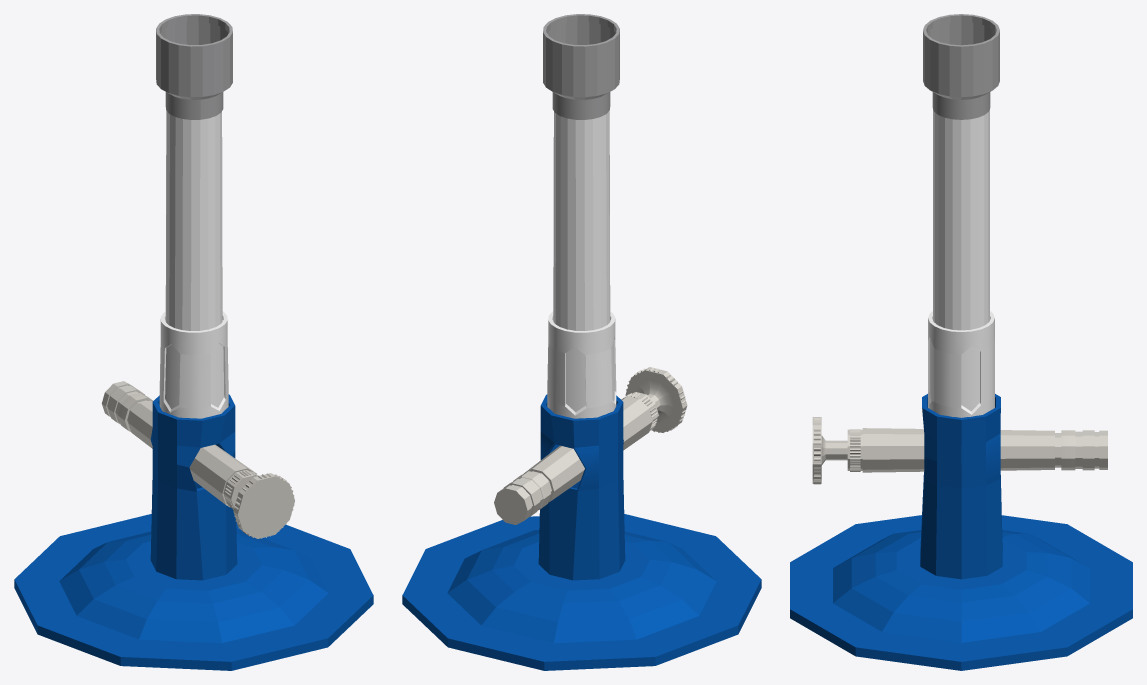
Rendered from Bunsen_Burner1.fbx.
3 renders of one model, left to right at view 1: azimuth 30°, elevation 25°; view 2: azimuth 150°, elevation 25°; view 3: azimuth 270°, elevation 25°, orthographic.
Visible parts, largest first — view 1: pCylinder12, pCylinder8, pCylinder7, pCylinder9; view 2: pCylinder12, pCylinder8, pCylinder7, pCylinder9; view 3: pCylinder12, pCylinder8, pCylinder7, pCylinder9.
Boxes of the visible parts, box(x1,y1,x2,y2) form: pCylinder12: box(14, 394, 373, 670); pCylinder8: box(159, 111, 228, 418); pCylinder7: box(101, 381, 294, 538); pCylinder9: box(156, 14, 232, 119); pCylinder12: box(402, 394, 761, 670); pCylinder8: box(547, 111, 616, 418); pCylinder7: box(494, 367, 687, 524); pCylinder9: box(543, 14, 619, 119); pCylinder12: box(790, 394, 1132, 670); pCylinder8: box(928, 109, 994, 417); pCylinder7: box(812, 417, 1107, 484); pCylinder9: box(923, 14, 999, 119).
Size of the model in its own units: 9.45 by 16.35 by 8.99.
